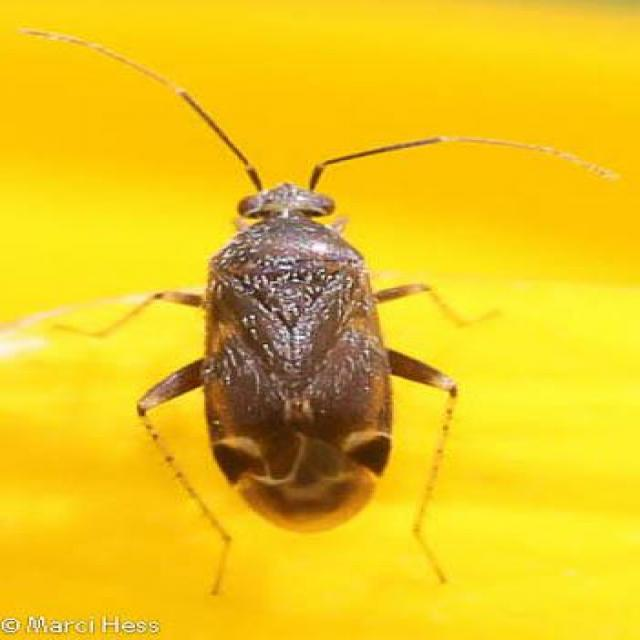Miridae-Adult-: (21, 25, 528, 586)
